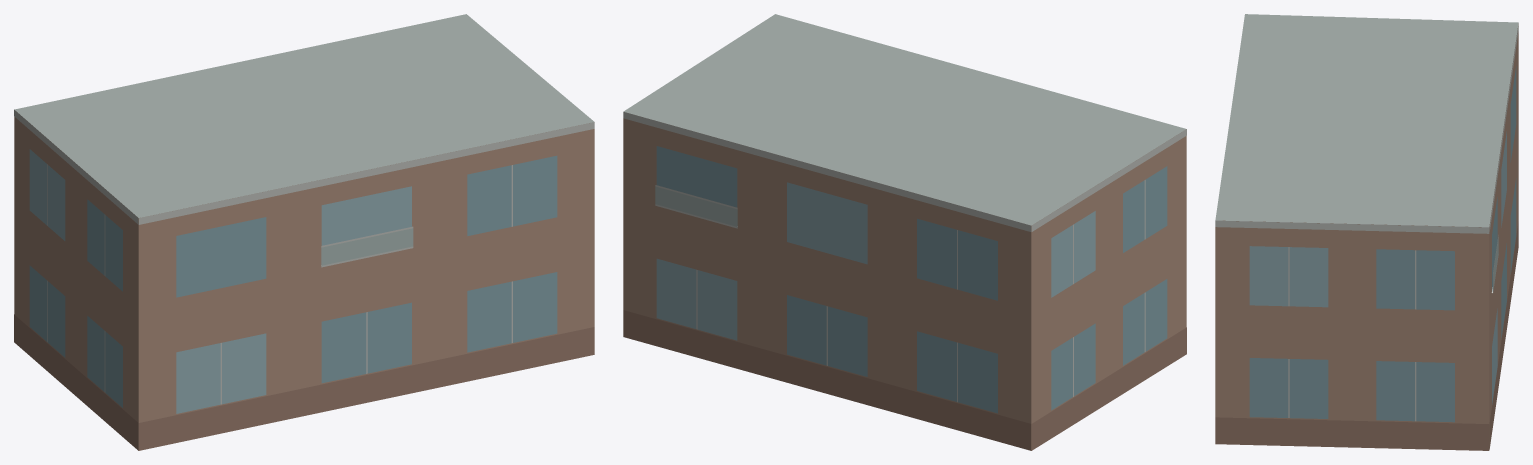
File: survey-upis-32968679.glb
The picture shows the model from 3 angles, left to right: view 1: azimuth 30°, elevation 25°; view 2: azimuth 150°, elevation 25°; view 3: azimuth 270°, elevation 25°; orthographic projection. The views are drawn at different scales.
Parts seen in each view (by area): view 1: survey-upis-32968679.tmp; view 2: survey-upis-32968679.tmp; view 3: survey-upis-32968679.tmp.
Boxes of the visible parts, <box> form: survey-upis-32968679.tmp: <box>14,14,594,450</box>; survey-upis-32968679.tmp: <box>623,14,1186,450</box>; survey-upis-32968679.tmp: <box>1215,14,1518,450</box>.
Bounding box in the file's own units: 16.99 × 8.3 × 10.22.
